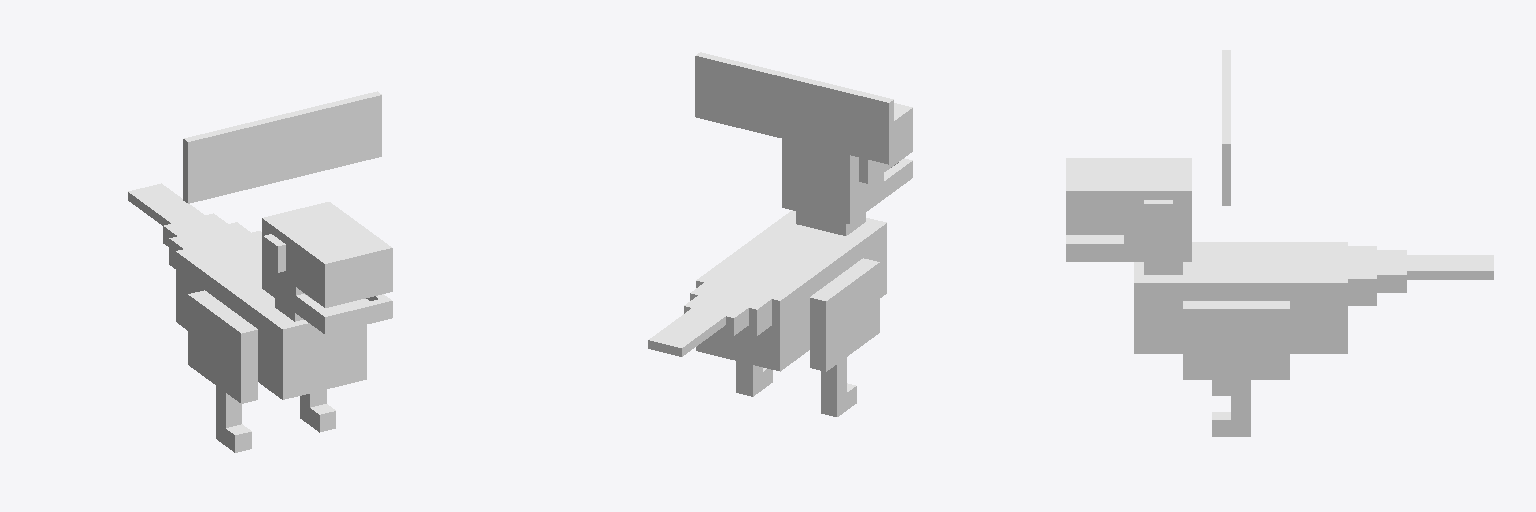
Rendered from dino-q2-a.obj.
3 views of the same model, side by side, from view 1: azimuth 30°, elevation 25°; view 2: azimuth 150°, elevation 25°; view 3: azimuth 270°, elevation 25° (orthographic).
Visible parts, largest first — view 1: Matrix_26; view 2: Matrix_26; view 3: Matrix_26.
Boxes of the visible parts, x1,y1,x2,y2 form: Matrix_26: [128, 91, 392, 452]; Matrix_26: [648, 52, 912, 416]; Matrix_26: [1066, 50, 1493, 436].
Bounding box in the file's own units: 23 × 36 × 44.